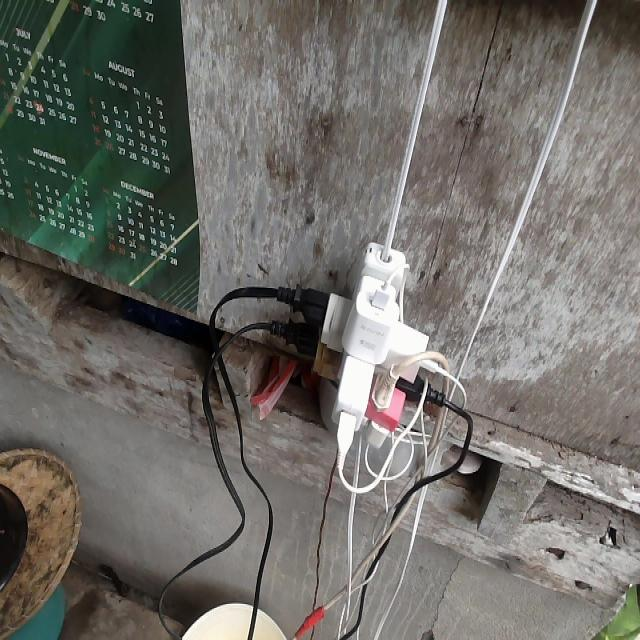-: (277, 240, 451, 488)
